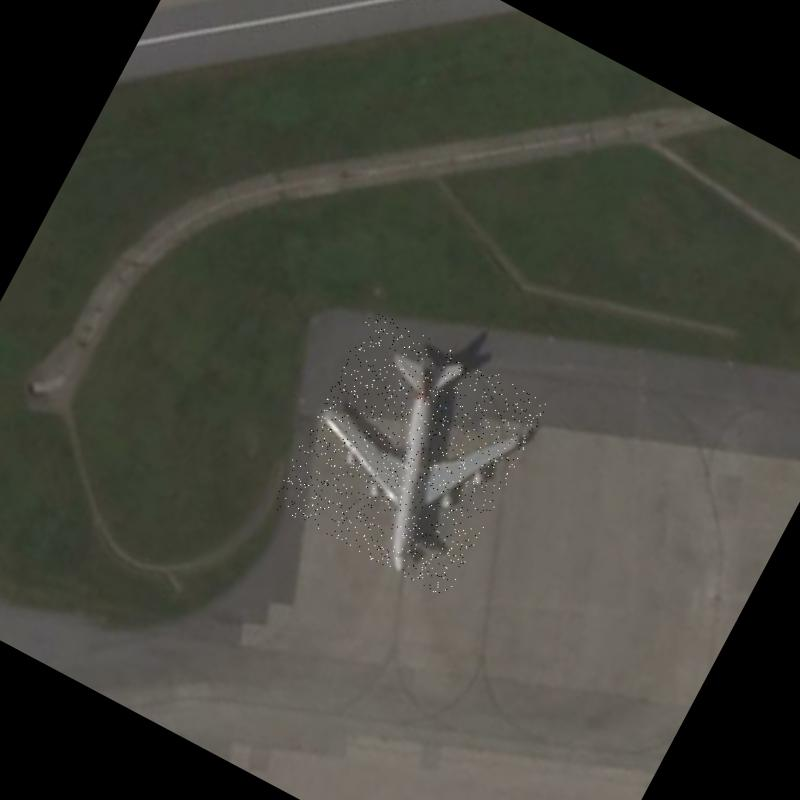A11: (267, 307, 550, 599)
